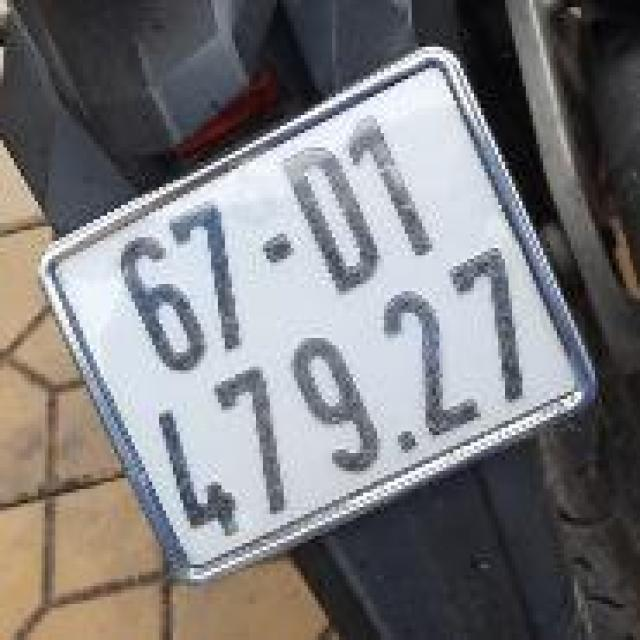1: (333, 106, 439, 261)
2: (359, 276, 500, 461)
4: (123, 391, 259, 554)
6: (108, 215, 219, 382)
7: (193, 359, 327, 534), (161, 195, 267, 371), (431, 238, 534, 414)
9: (277, 317, 401, 496)
D: (272, 136, 399, 301)
